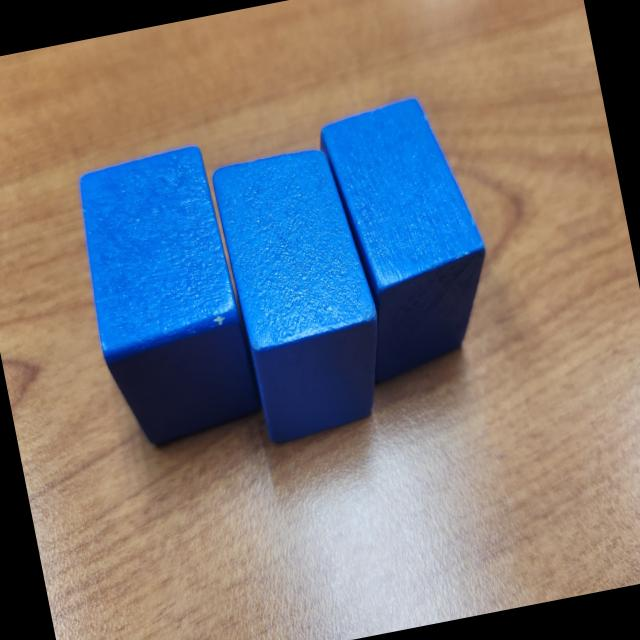blue: (67, 142, 267, 456), (210, 143, 400, 450), (314, 90, 508, 390)
